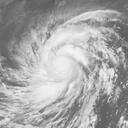cyclone: (31, 34, 89, 99)
